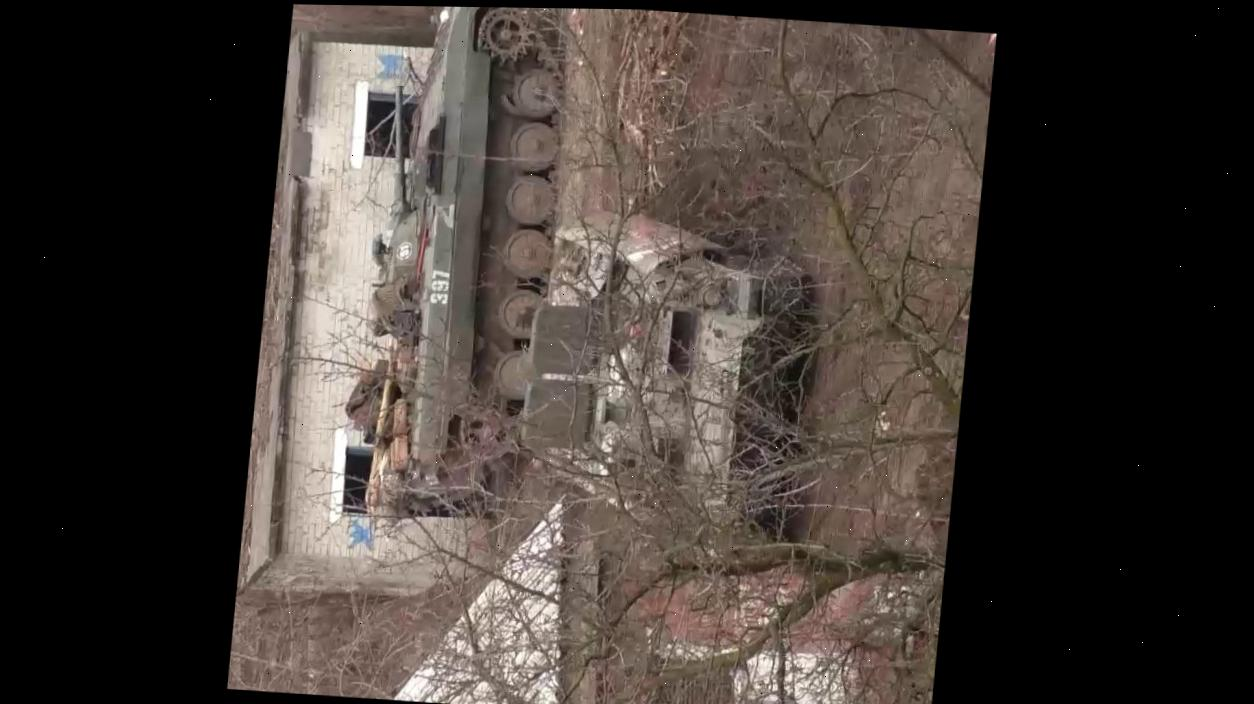tank: (332, 5, 605, 538), (516, 204, 819, 553)
